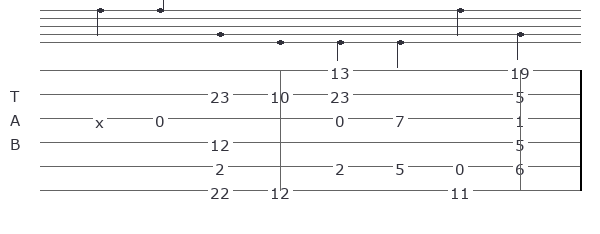0: (155, 111, 169, 126), (335, 111, 349, 126), (455, 159, 469, 174)
1: (515, 111, 529, 126)
10: (270, 87, 294, 102)
11: (450, 183, 474, 198)
12: (210, 135, 234, 150), (270, 183, 294, 198)
13: (330, 63, 354, 78)
19: (510, 63, 534, 78)
2: (215, 159, 229, 174), (335, 159, 349, 174)
22: (210, 183, 234, 198)
23: (210, 87, 234, 102), (330, 87, 354, 102)
5: (395, 159, 409, 174), (515, 87, 529, 102), (515, 135, 529, 150)
6: (515, 159, 529, 174)
7: (395, 111, 409, 126)
x: (95, 112, 108, 124)
